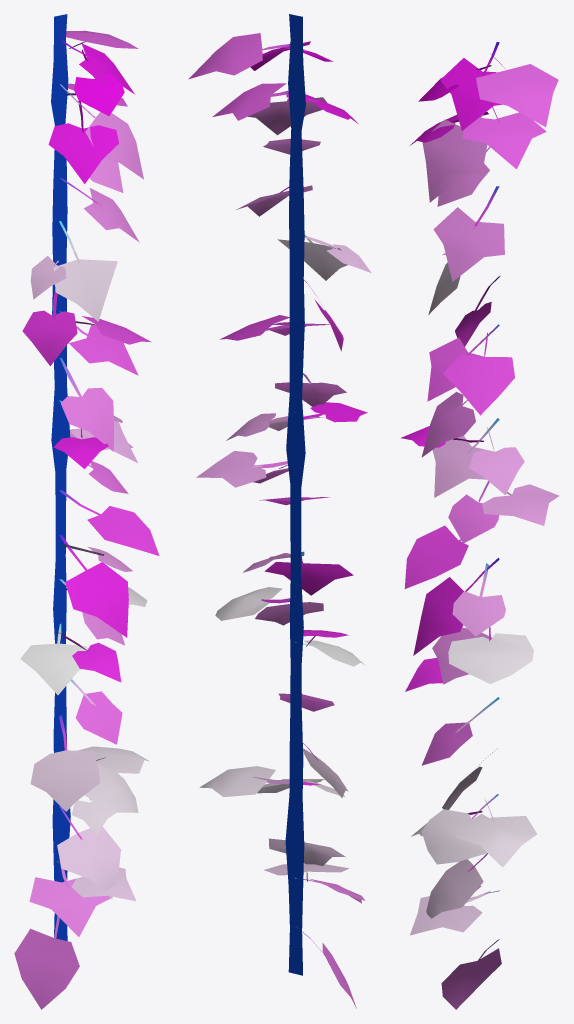
Rendered from English_Ivy_xfcnebhqx_High_xfcnebhqx_VarD_LOD2.fbx.
3 views of the same model, side by side, from view 1: azimuth 30°, elevation 25°; view 2: azimuth 150°, elevation 25°; view 3: azimuth 270°, elevation 25° (orthographic). The views are drawn at different scales.
Parts seen in each view (by area): view 1: _zset_VarD_LOD2; view 2: _zset_VarD_LOD2; view 3: _zset_VarD_LOD2.
Boxes of the visible parts, x1,y1,x2,y2 form: _zset_VarD_LOD2: (14,14,159,1009); _zset_VarD_LOD2: (188,14,371,1008); _zset_VarD_LOD2: (401,42,559,1009).
Bounding box in the file's own units: 11.66 × 76.07 × 10.86.
